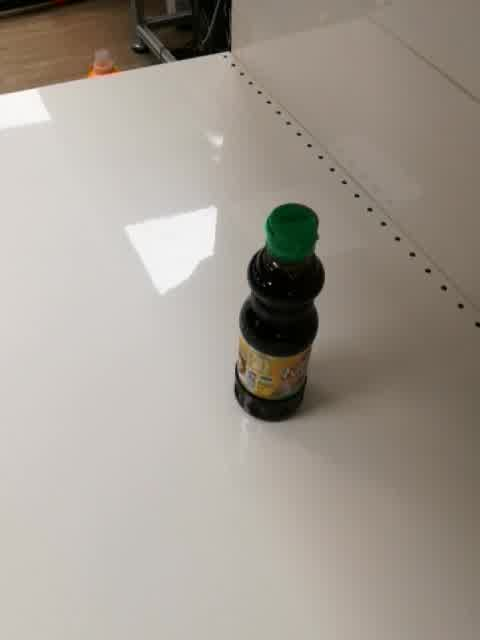cookingoil: (230, 201, 327, 426)
